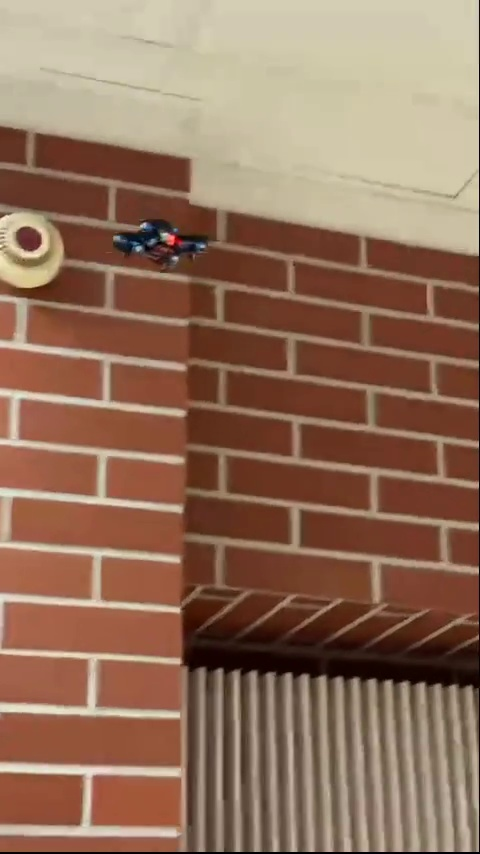drone: (114, 219, 206, 270)
